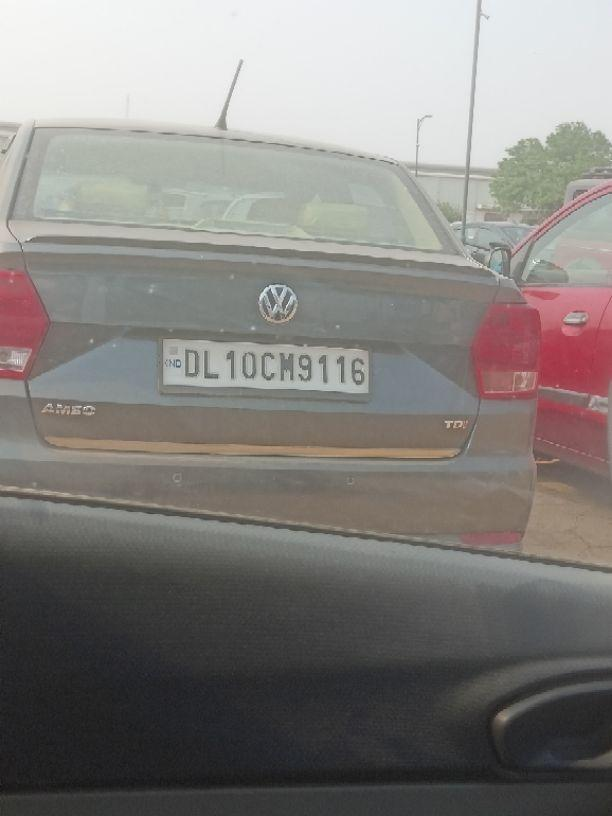license_plate: (157, 335, 372, 398)
